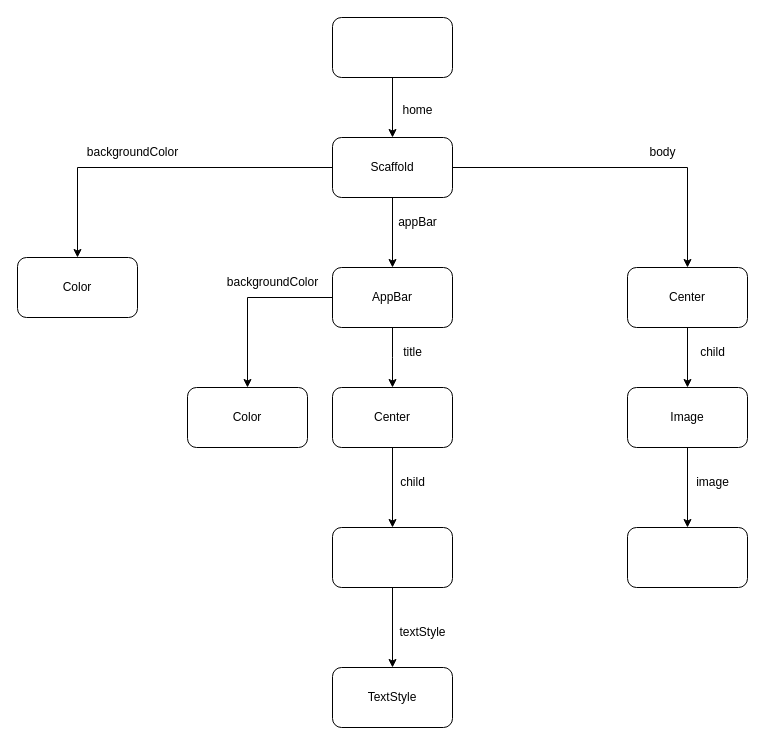
Some shapes in this 765 by 745 pixel diagram are drawn without their labels. Here are the shapes that lost their labels. From the top down, the centre of each, then its label:
At point (392, 47): "Material App".
At point (392, 557): "Text".
At point (687, 557): "Asset Image".
